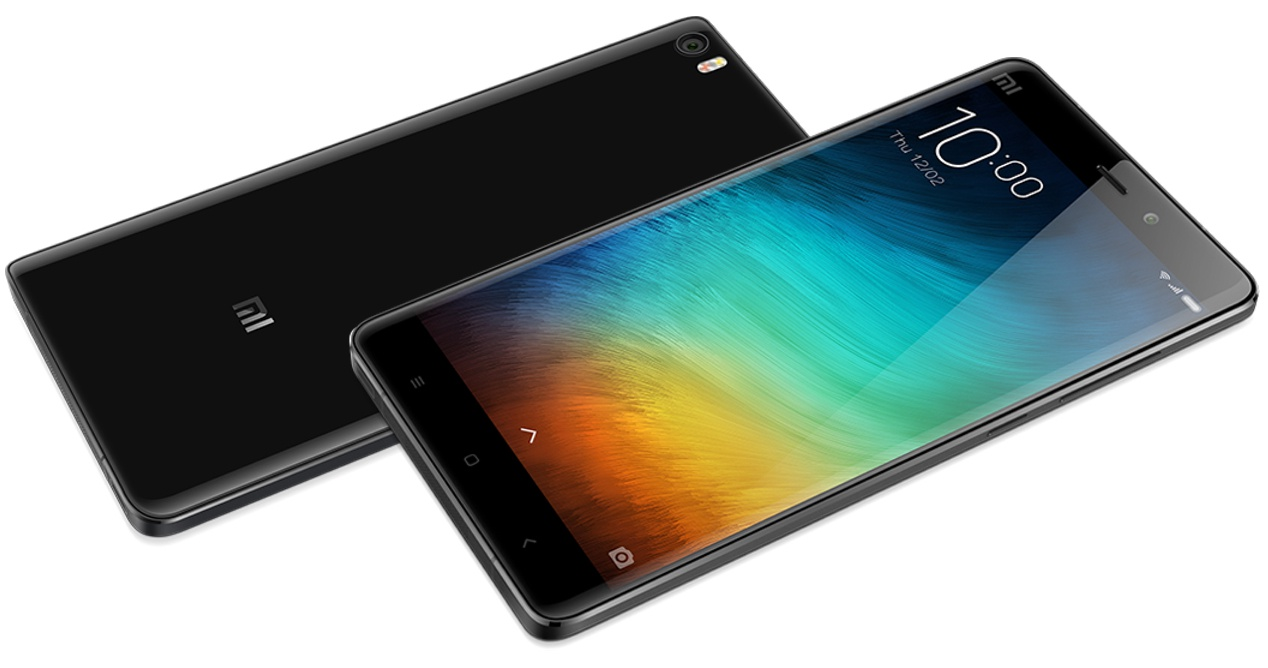smartphone: (349, 56, 1259, 641), (6, 15, 813, 538)
